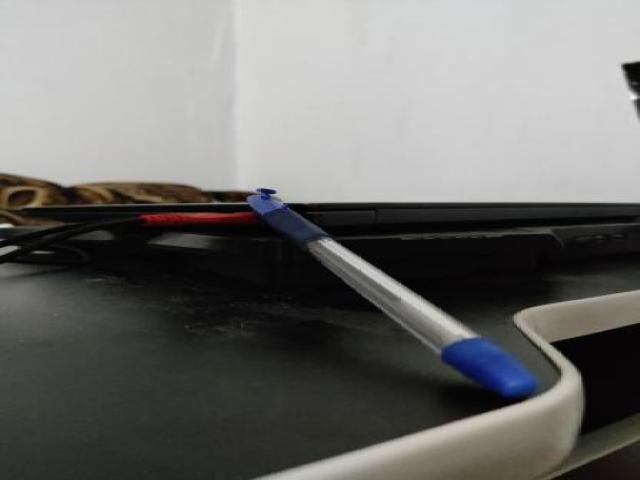PEN: (232, 167, 554, 418)
